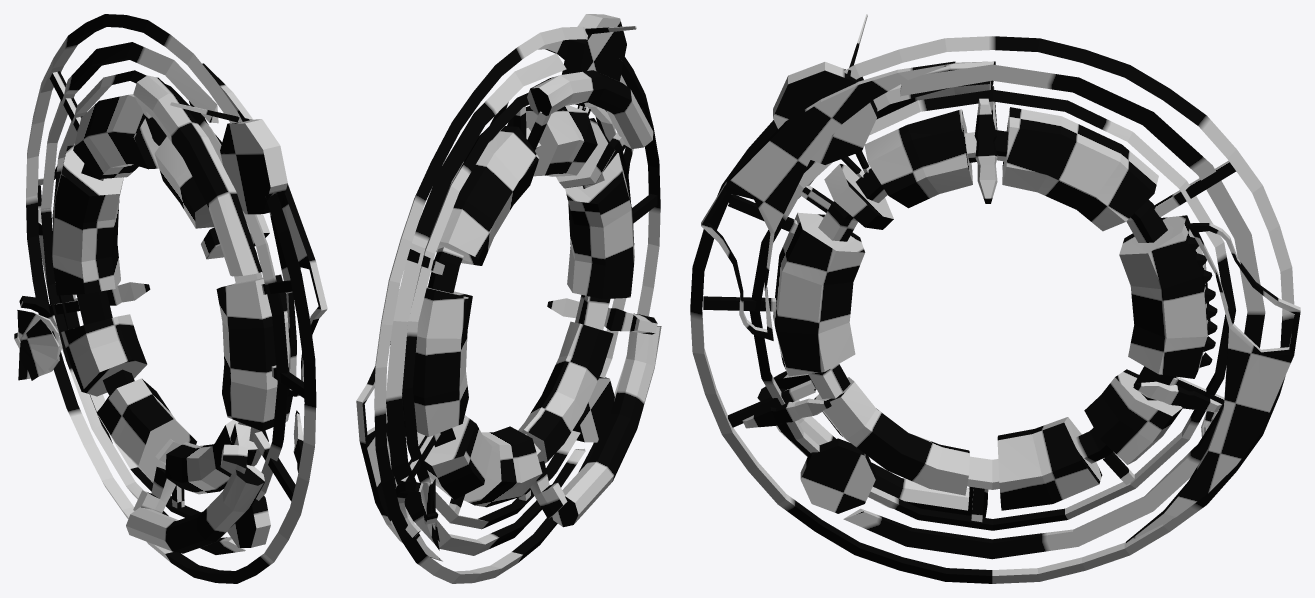
File: eventgate_team.obj
The picture shows the model from 3 angles, left to right: view 1: azimuth 30°, elevation 25°; view 2: azimuth 150°, elevation 25°; view 3: azimuth 270°, elevation 25°; orthographic projection. The views are drawn at different scales.
Parts seen in each view (by area): view 1: eventgate_team; view 2: eventgate_team; view 3: eventgate_team.
Part boxes in pixels (bbox=[...]): eventgate_team: bbox=[14, 14, 327, 583]; eventgate_team: bbox=[356, 14, 661, 583]; eventgate_team: bbox=[690, 14, 1300, 583].
Size of the model in its own units: 75.01 by 346 by 349.
Materials: 1 (1 with a texture image).
